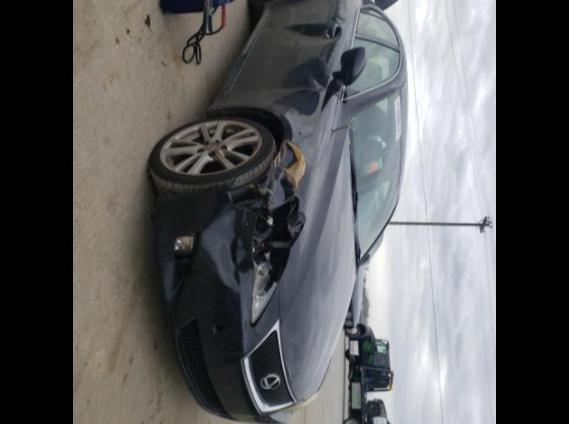Broken part: (216, 88, 354, 278), (250, 212, 280, 326)
Corrosion: (272, 152, 280, 164), (282, 142, 288, 156)
Dent: (200, 208, 240, 294), (262, 22, 342, 46), (272, 174, 294, 206), (292, 123, 314, 144), (234, 236, 246, 264), (332, 16, 346, 22)
Missing part: (210, 322, 222, 332)
Paint chip: (284, 138, 306, 188)
